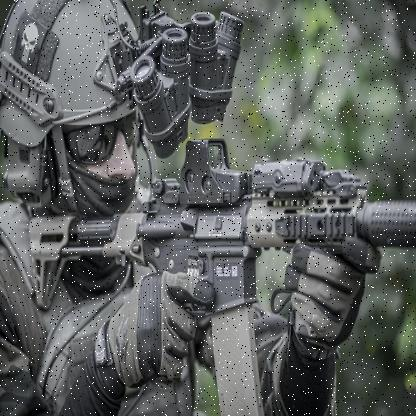rifle: (25, 134, 416, 415)
